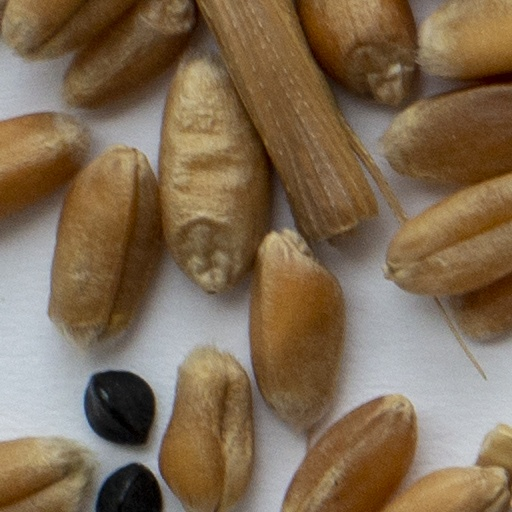Fallopia-Сonvolvulus-poly: (80, 367, 156, 450), (93, 458, 162, 511)
